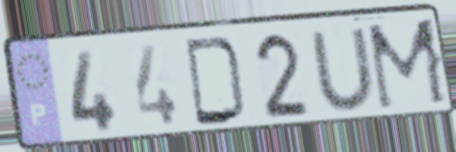2: (251, 29, 314, 124)
4: (68, 46, 120, 136), (134, 42, 181, 131)
D: (182, 36, 250, 129)
M: (363, 15, 452, 115)
U: (306, 24, 381, 114)
